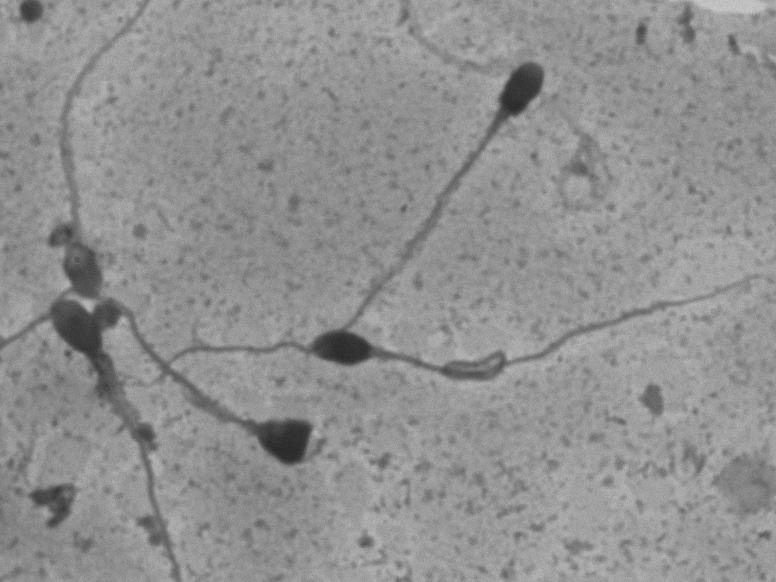Abnormal: (332, 35, 569, 302), (113, 234, 350, 493), (289, 295, 734, 387)
